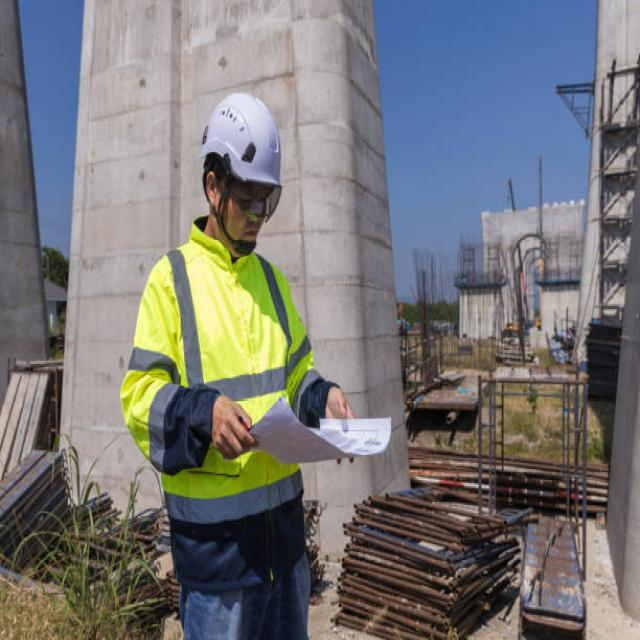without_helmet: (207, 152, 276, 255)
